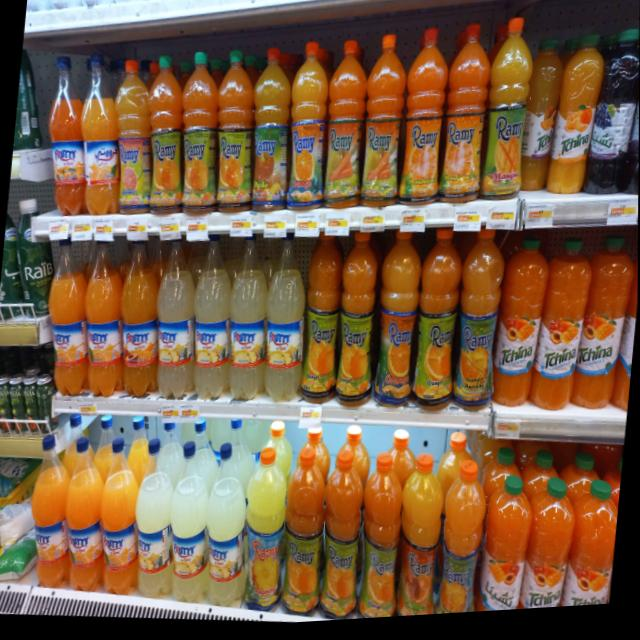ramy_plastique: (449, 233, 507, 424), (478, 20, 536, 208), (396, 28, 452, 218), (437, 30, 494, 210), (370, 233, 426, 416), (356, 36, 411, 219), (410, 234, 465, 417), (243, 46, 298, 222), (139, 50, 195, 222), (333, 234, 386, 414), (278, 445, 331, 624), (294, 238, 349, 410), (176, 47, 230, 221), (281, 41, 334, 218), (319, 38, 370, 218), (104, 57, 159, 222), (315, 461, 370, 625), (239, 455, 294, 615), (394, 462, 449, 621), (355, 459, 408, 623), (436, 464, 491, 620), (74, 56, 125, 219), (262, 244, 312, 406), (212, 45, 259, 216), (41, 64, 92, 220), (224, 249, 275, 403), (207, 446, 246, 609), (135, 440, 174, 599), (171, 443, 209, 605), (157, 243, 195, 401), (32, 435, 71, 588), (101, 438, 139, 595), (66, 437, 104, 592), (85, 243, 123, 398), (121, 243, 159, 398), (194, 244, 231, 401), (50, 244, 88, 396)
tchina_plastique: (529, 243, 595, 424), (572, 244, 637, 425), (489, 241, 550, 422), (545, 42, 605, 203), (588, 35, 640, 202), (517, 41, 566, 204), (516, 484, 574, 616), (476, 482, 529, 618), (562, 491, 619, 614)
